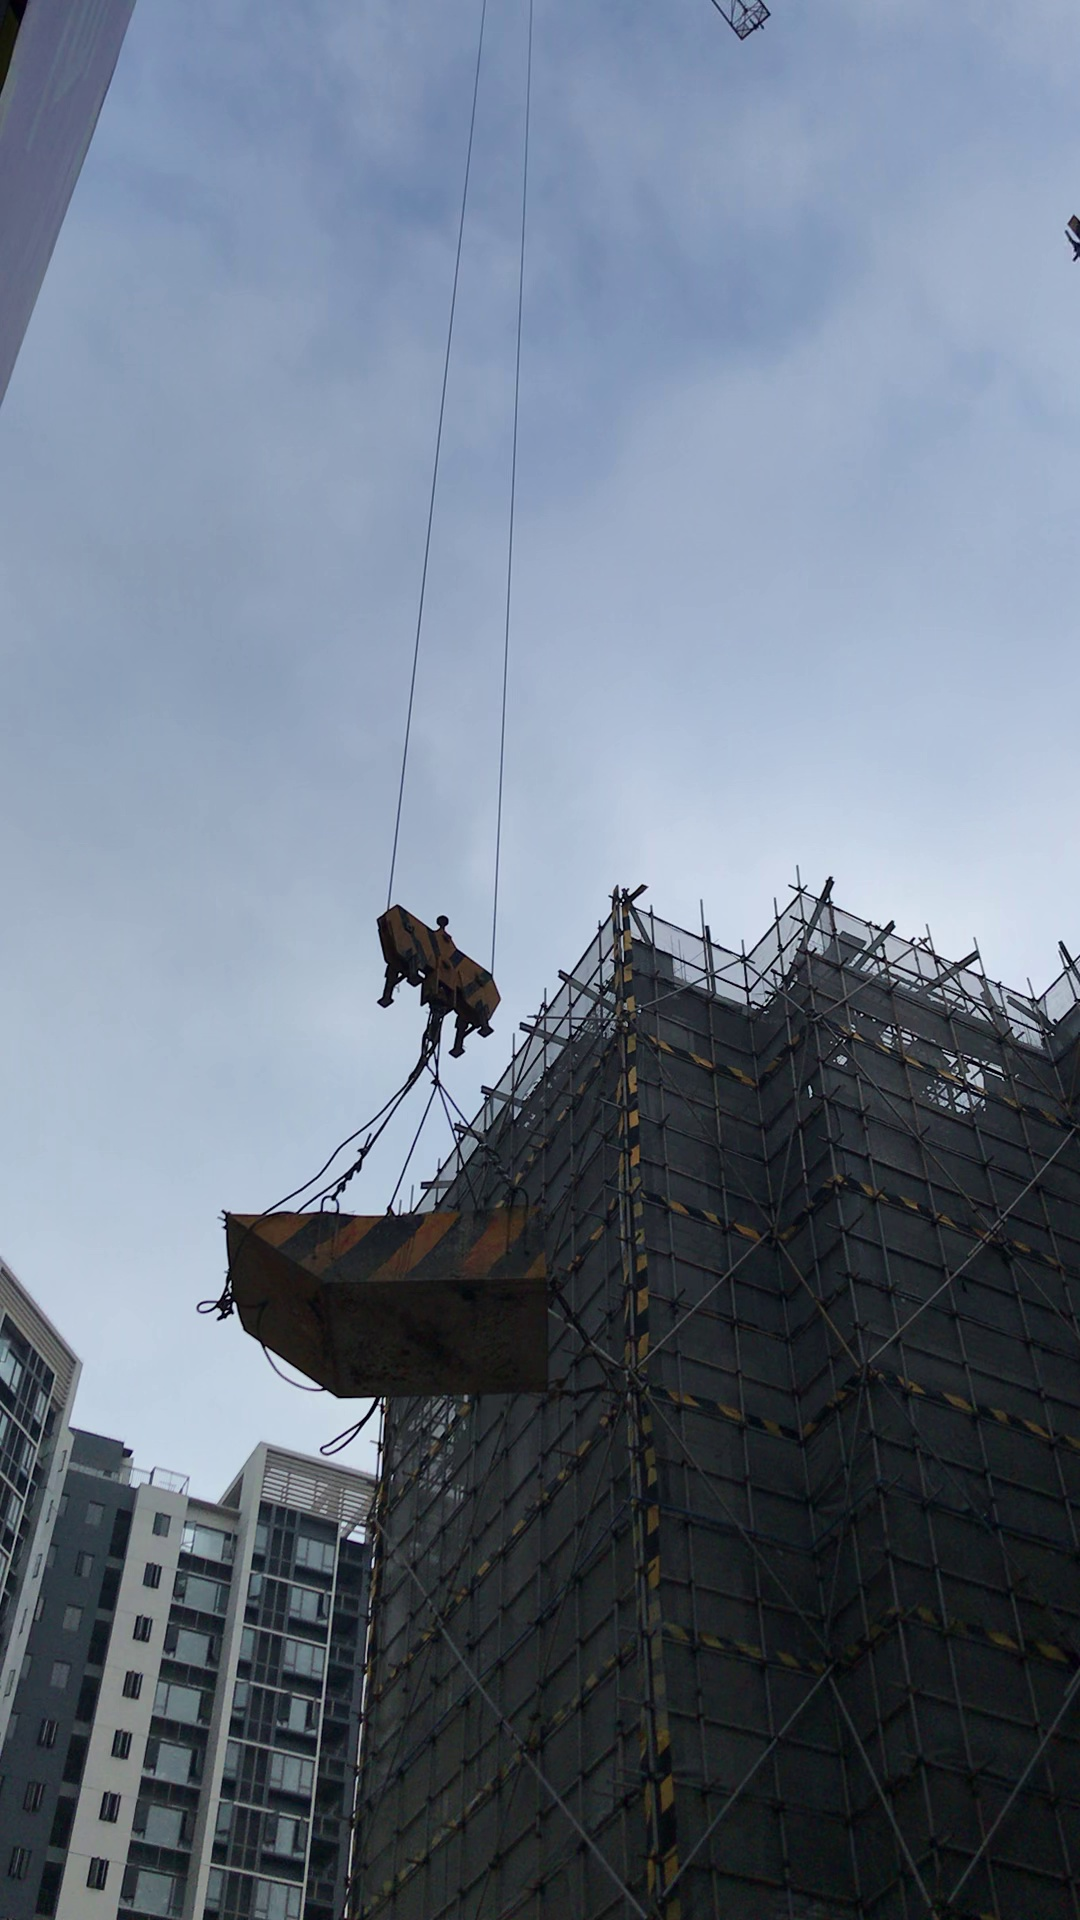hook: (364, 906, 502, 1048)
